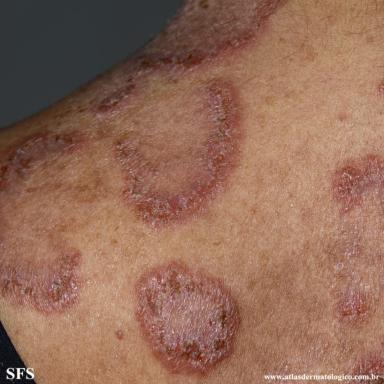Hailey-Hailey-Disease: (2, 0, 283, 313), (307, 155, 383, 374), (135, 262, 240, 375)
